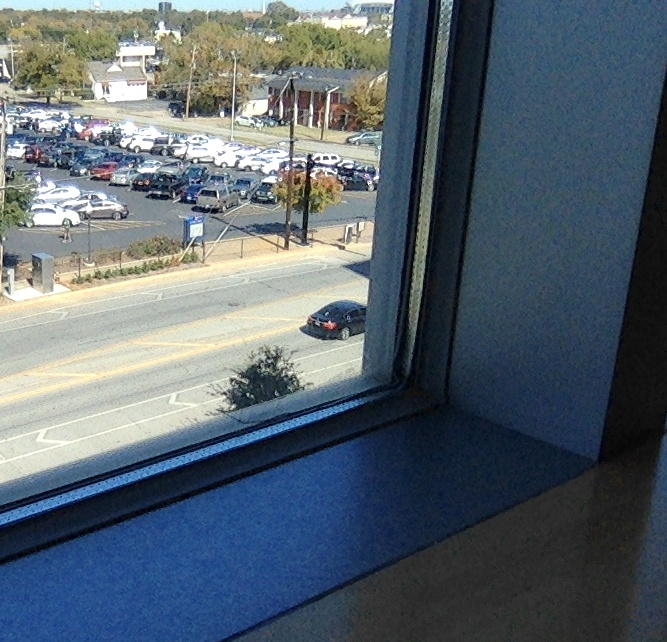car: (300, 300, 367, 342)
